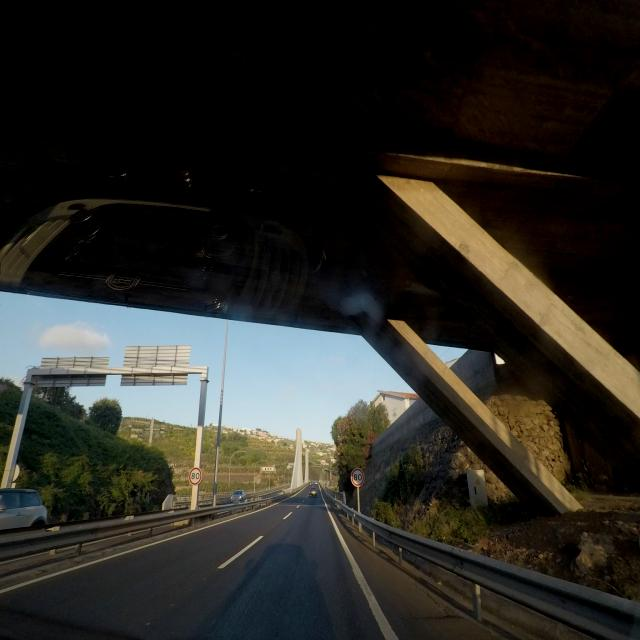car: (0, 488, 48, 534), (231, 489, 246, 501)
